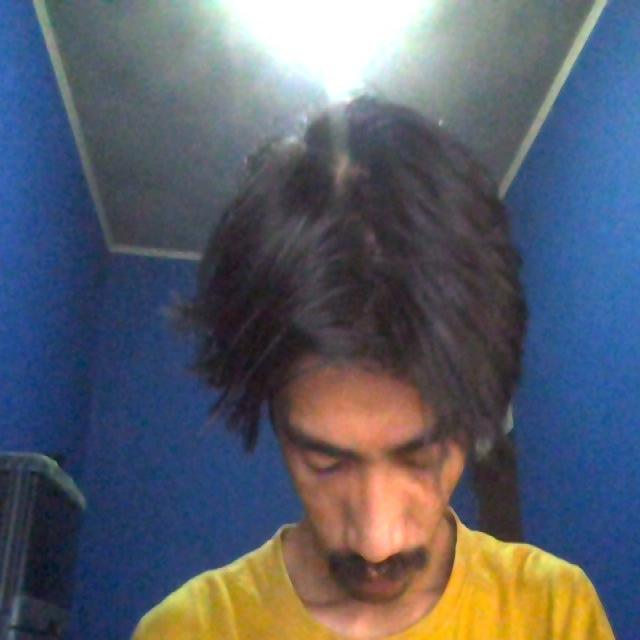Melihat Kebawah: (166, 32, 565, 615)
